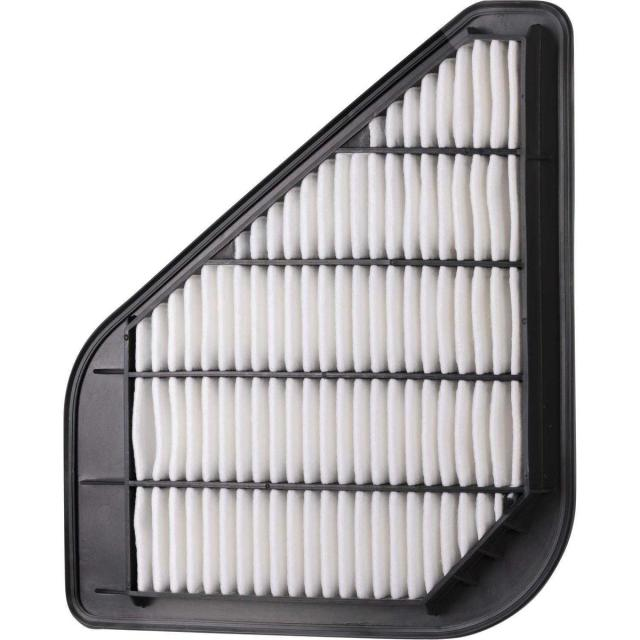air_filter: (64, 0, 574, 633)
